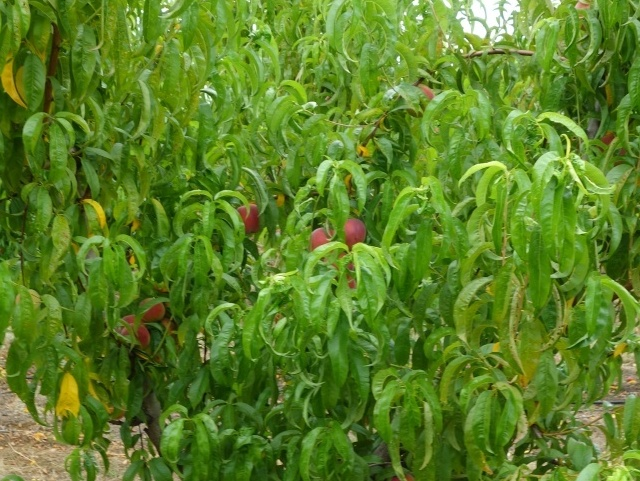peach: (402, 83, 439, 120), (301, 224, 339, 257), (336, 218, 369, 250), (230, 203, 264, 234), (117, 320, 151, 349), (138, 296, 168, 325), (113, 312, 140, 333)
